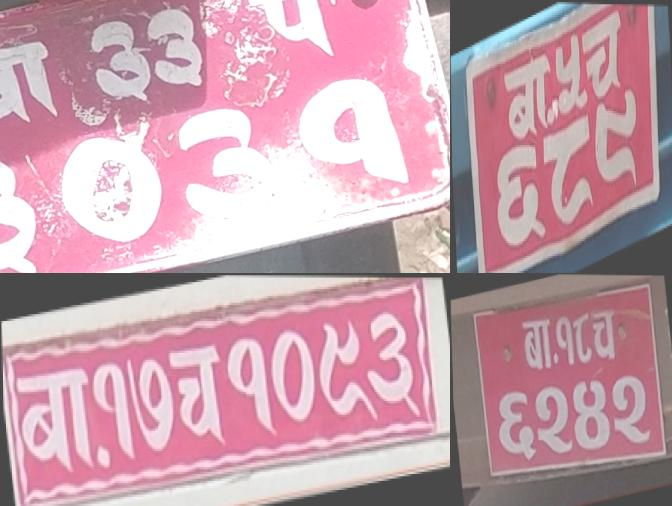0: (41, 124, 172, 251), (266, 324, 318, 424), (520, 314, 553, 374)
1: (278, 57, 425, 203), (220, 330, 278, 442), (87, 357, 134, 463), (531, 381, 574, 460), (608, 370, 650, 449)
3: (162, 94, 284, 231), (75, 11, 158, 113), (138, 0, 214, 100), (0, 145, 47, 273), (362, 305, 416, 406), (553, 312, 575, 366)
4: (493, 386, 537, 468)
5: (552, 26, 588, 128), (568, 375, 610, 456)
6: (494, 129, 546, 264)
7: (124, 345, 178, 455)
8: (542, 104, 596, 234)
9: (308, 312, 374, 425), (591, 78, 642, 206), (589, 306, 617, 361)
ba: (13, 364, 97, 480), (0, 33, 63, 136), (502, 47, 554, 150)
cha: (165, 338, 229, 451), (581, 4, 627, 109)
pa: (236, 0, 345, 76), (571, 312, 593, 365)
